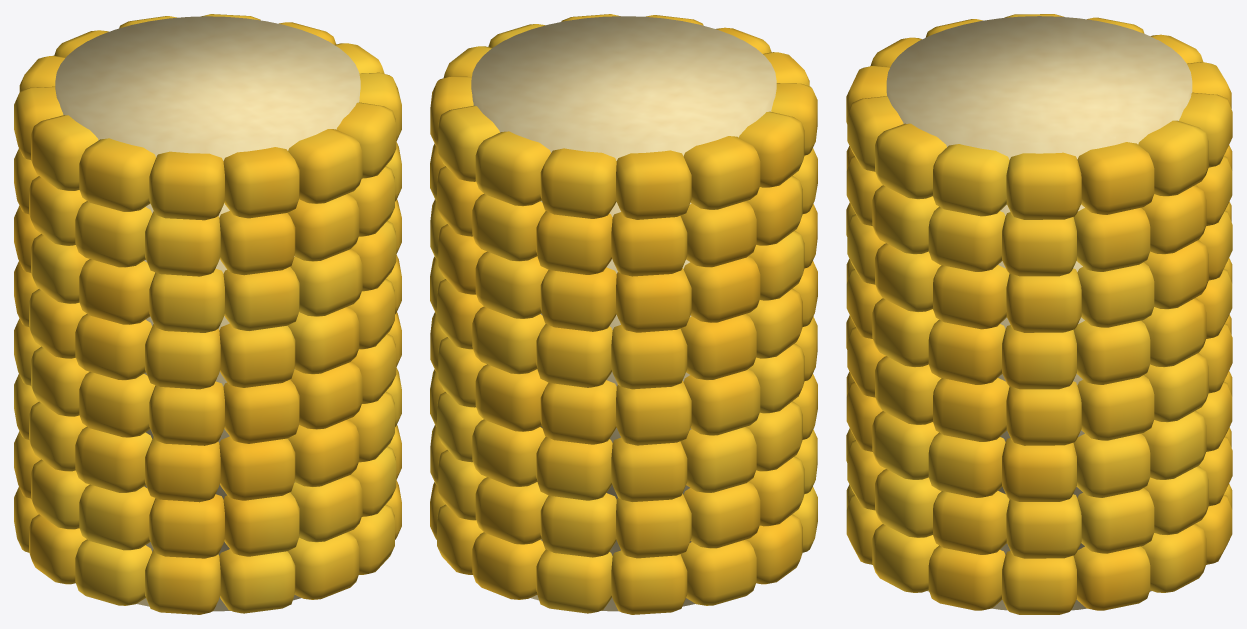
Rendered from Corn.fbx.
3 views of the same model, side by side, from view 1: azimuth 30°, elevation 25°; view 2: azimuth 150°, elevation 25°; view 3: azimuth 270°, elevation 25° (orthographic).
Visible parts, largest first — view 1: Corn; view 2: Corn; view 3: Corn.
Part boxes in pixels (<box>): Corn: <box>14,14,401,614</box>; Corn: <box>430,14,817,614</box>; Corn: <box>846,14,1232,614</box>.
Bounding box in the file's own units: 64.66 × 86 × 64.56.
